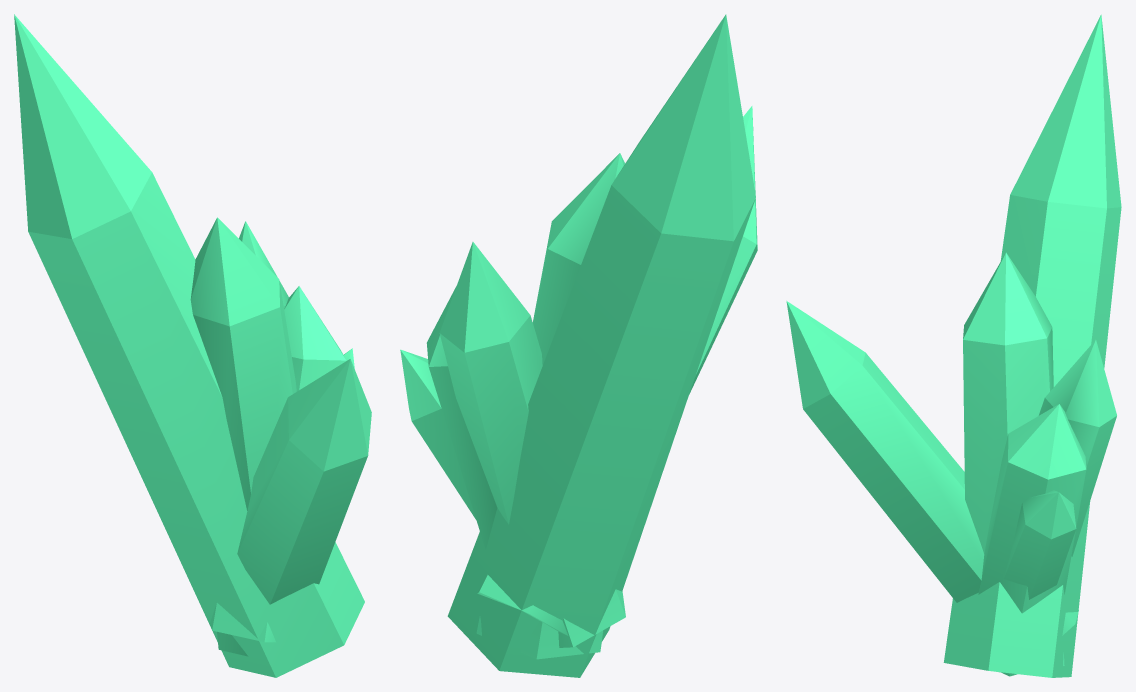
File: obj_deco_cristales_3.glb
3 renders of one model, left to right at view 1: azimuth 30°, elevation 25°; view 2: azimuth 150°, elevation 25°; view 3: azimuth 270°, elevation 25°, orthographic. The views are drawn at different scales.
Parts seen in each view (by area): view 1: propforge-libre-deco_cristales; view 2: propforge-libre-deco_cristales; view 3: propforge-libre-deco_cristales.
Part boxes in pixels (left/top/right/bottom): propforge-libre-deco_cristales: left=14, top=14, right=371, bottom=677; propforge-libre-deco_cristales: left=400, top=14, right=757, bottom=677; propforge-libre-deco_cristales: left=786, top=14, right=1121, bottom=677.
Size of the model in its own units: 0.2199 by 0.444 by 0.232.
